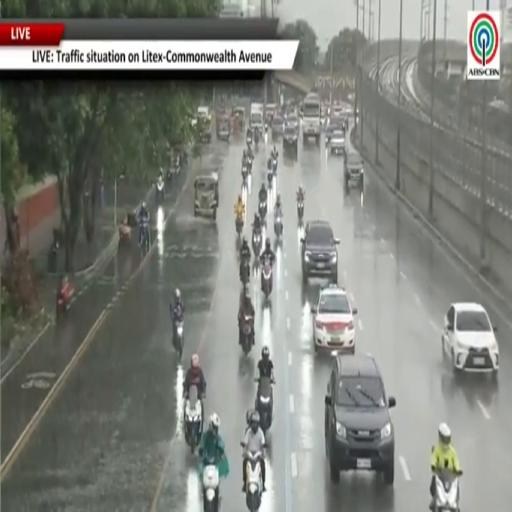car: (325, 355, 395, 485), (442, 302, 499, 375), (311, 285, 357, 355), (301, 220, 339, 283), (344, 151, 363, 189), (283, 126, 298, 157), (330, 128, 345, 155), (271, 115, 284, 139), (285, 114, 299, 129)
jeepney: (194, 172, 218, 220), (197, 106, 211, 142), (216, 111, 230, 140), (231, 106, 245, 133)
motorcycle: (184, 385, 203, 454), (433, 469, 459, 511), (244, 452, 262, 511), (255, 377, 273, 433), (203, 464, 220, 511), (56, 281, 74, 318), (241, 315, 254, 355), (261, 259, 272, 299), (174, 317, 184, 358), (140, 221, 149, 251), (252, 231, 261, 261), (240, 260, 250, 285), (156, 178, 164, 204), (274, 214, 282, 237), (297, 199, 304, 222), (259, 201, 266, 221), (236, 217, 243, 236), (242, 165, 248, 186), (254, 129, 260, 146), (248, 154, 253, 173), (268, 170, 273, 188), (272, 158, 277, 175), (246, 135, 252, 147), (167, 168, 172, 181)
truck: (302, 92, 321, 145), (249, 103, 264, 133)
